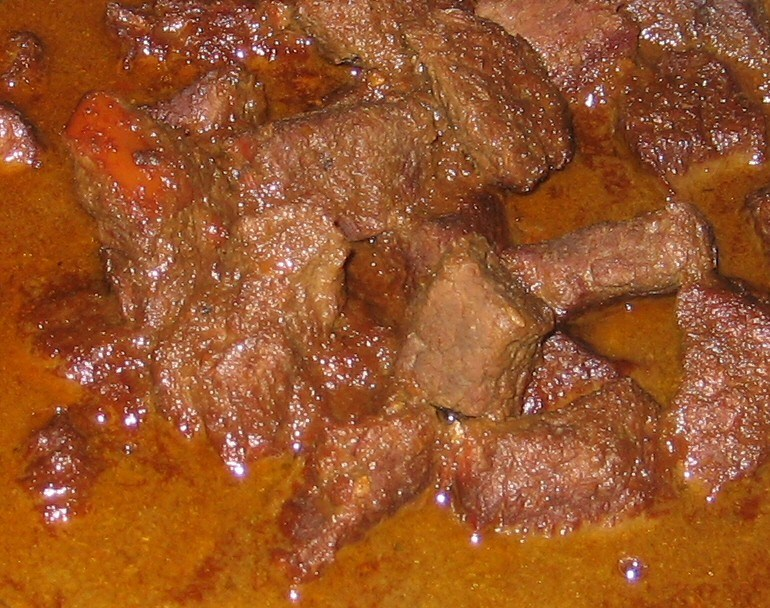Rendang: (31, 45, 706, 523)
